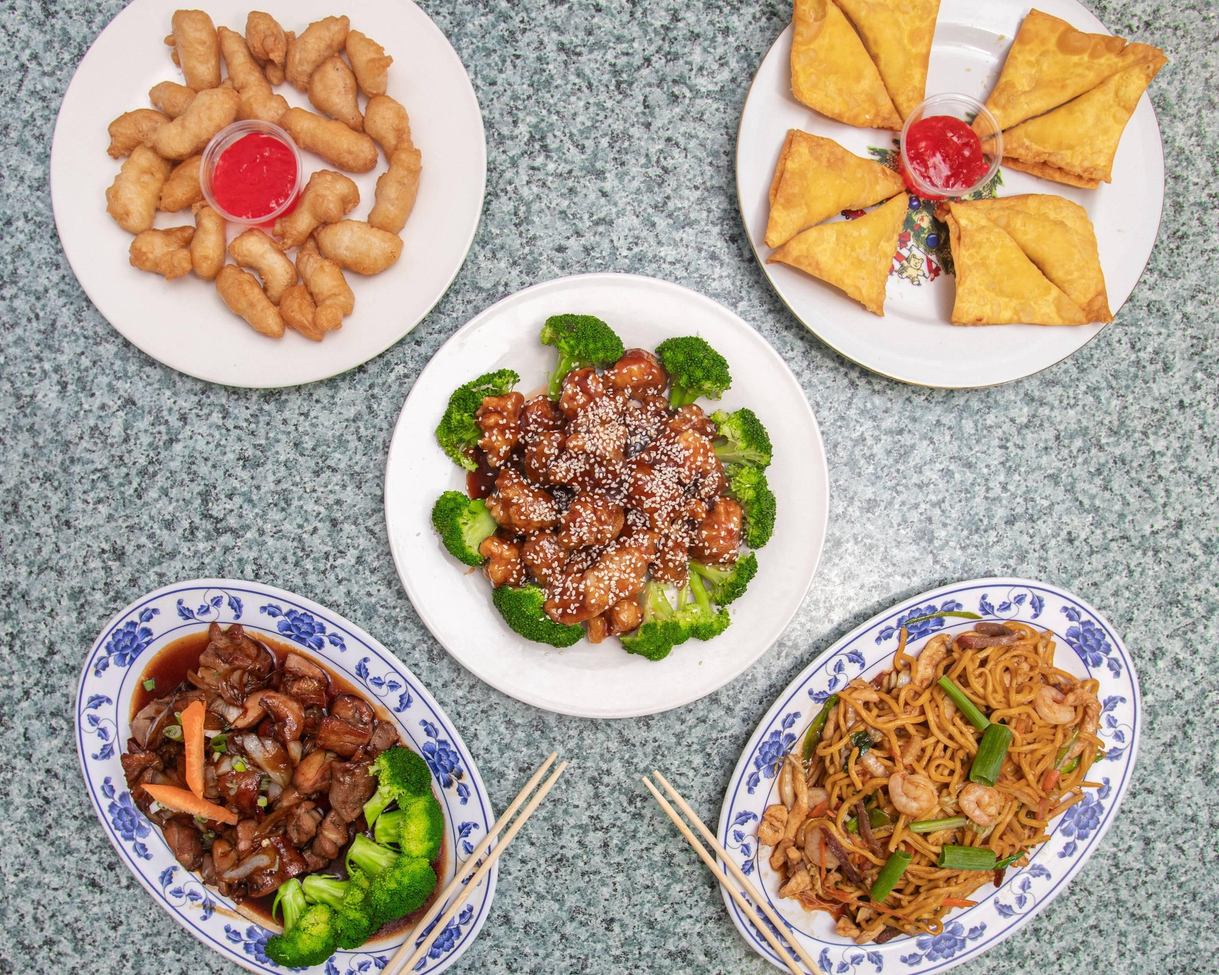Braised Crucian Carp: (45, 0, 471, 388), (74, 593, 486, 975), (778, 0, 1164, 392), (786, 578, 1147, 975), (398, 293, 748, 644)
